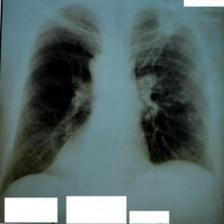tuberculosis: (2, 1, 220, 195)
